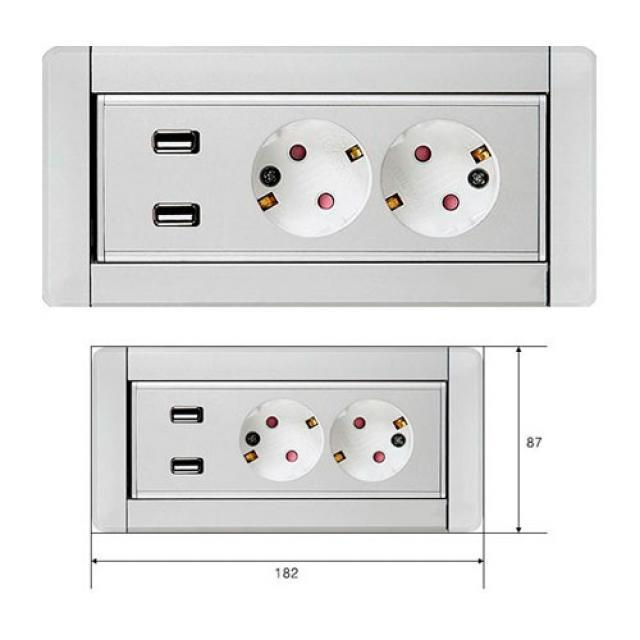typeb: (40, 38, 604, 312)
